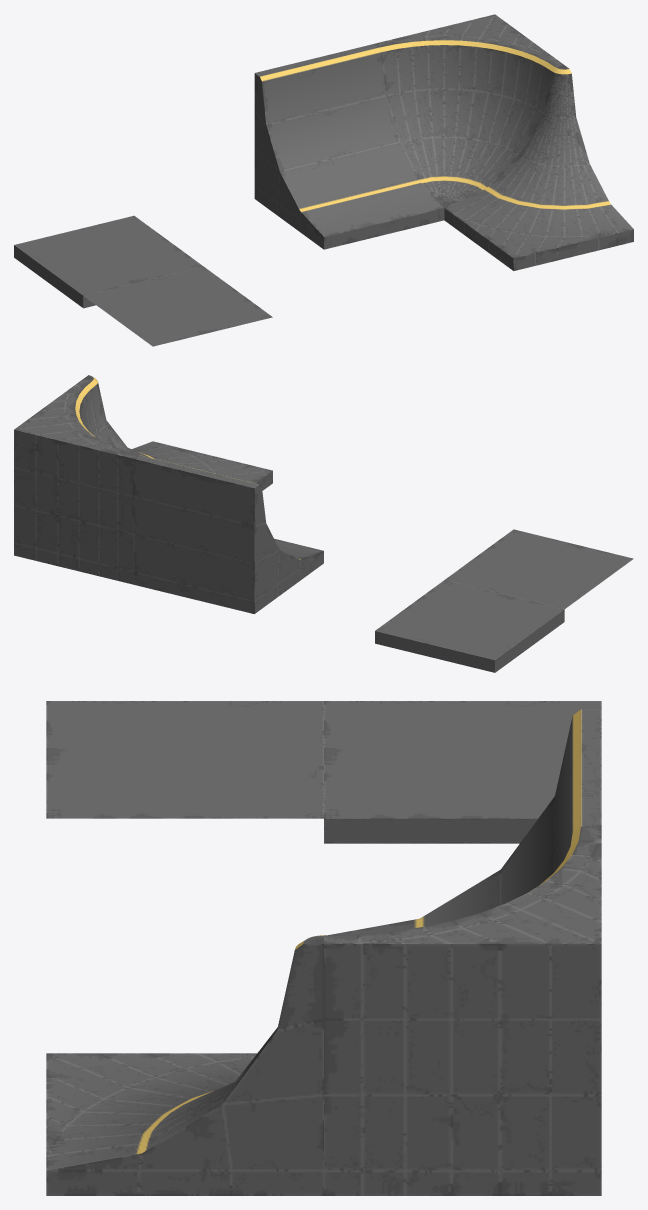
File: SkatePark 1.fbx
The picture shows the model from 3 angles, top to bottom: view 1: azimuth 30°, elevation 25°; view 2: azimuth 150°, elevation 25°; view 3: azimuth 270°, elevation 25°; orthographic projection. The views are drawn at different scales.
Visible parts, largest first — view 1: Half Pipe, Corner A, Corner B, Flat, Flat.001; view 2: Half Pipe, Corner A, Flat, Flat.001, Corner B; view 3: Corner A, Corner B, Flat, Flat.001, Half Pipe.
Boxes of the visible parts, box(x1,y1,x2,y2) form: Half Pipe: box(254, 43, 444, 249); Corner A: box(375, 14, 564, 207); Corner B: box(444, 65, 633, 270); Flat: box(14, 215, 203, 308); Flat.001: box(83, 266, 272, 346); Half Pipe: box(134, 455, 323, 613); Corner A: box(14, 379, 138, 584); Flat: box(375, 580, 564, 672); Flat.001: box(444, 529, 633, 609); Corner B: box(83, 375, 272, 490); Corner A: box(324, 826, 601, 1195); Corner B: box(46, 935, 323, 1195); Flat: box(324, 701, 601, 843); Flat.001: box(46, 701, 323, 818); Half Pipe: box(328, 709, 601, 935).
Size of the model in its own units: 4000 by 1000 by 2000.
